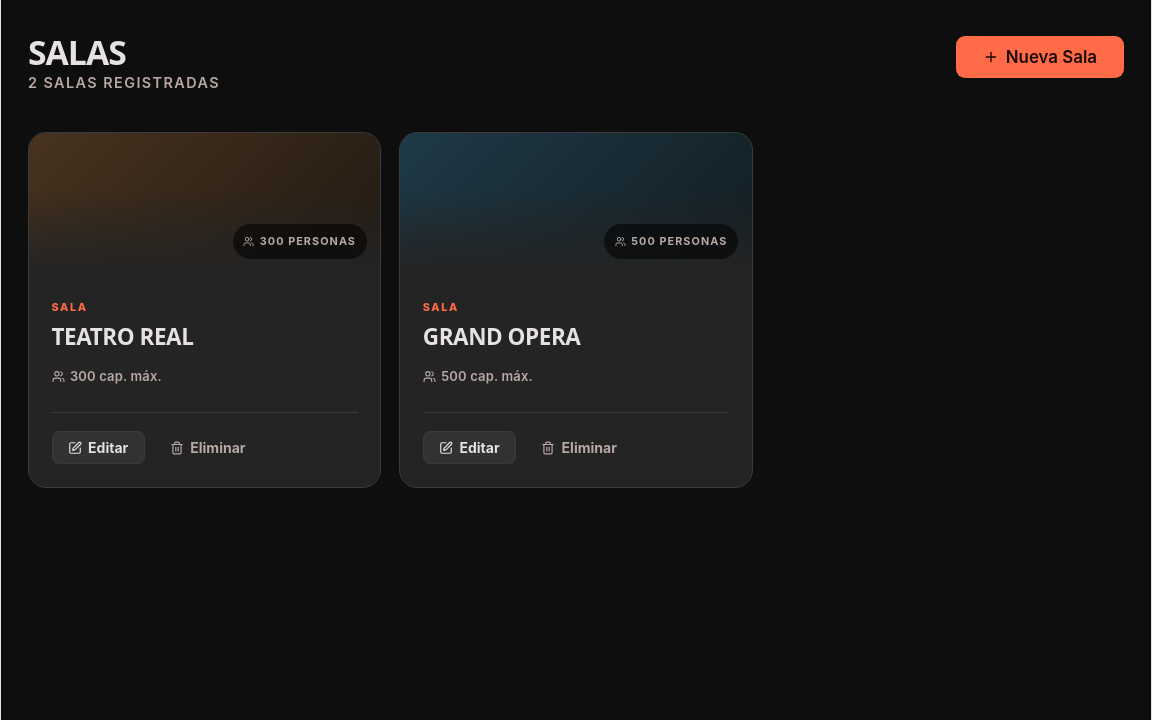
it: RoomsAdminPage › opens edit modal pre-filled when edit button is clicked
// WHEN — click first edit button
Click the button titled "Editar sala" below "Teatro Real".
click(98, 448)  # box [52,431,145,464]
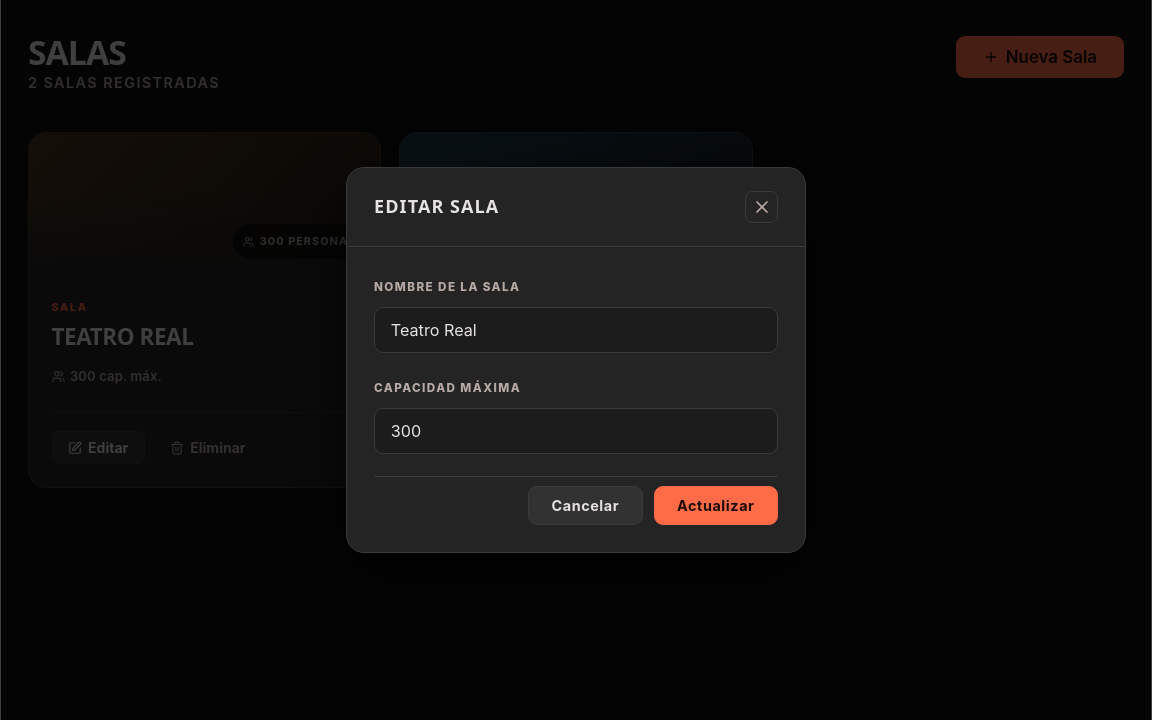
Result: the heading "Editar Sala" is shown at [374,196,499,218]
Result: the field labelled "Nombre de la Sala" holds "Teatro Real" at [374,307,778,352]
